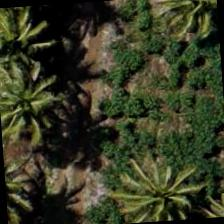Kelapa_Sawit: (118, 150, 212, 224), (0, 64, 70, 159), (0, 7, 53, 102), (142, 0, 221, 51), (0, 5, 43, 55)
